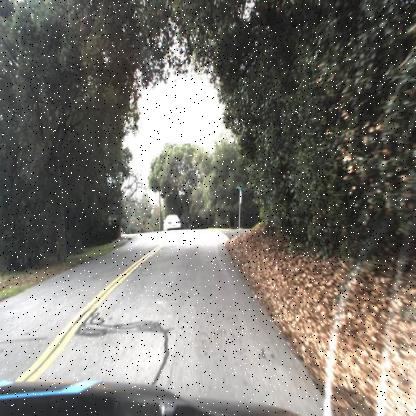car: (160, 209, 184, 237)
